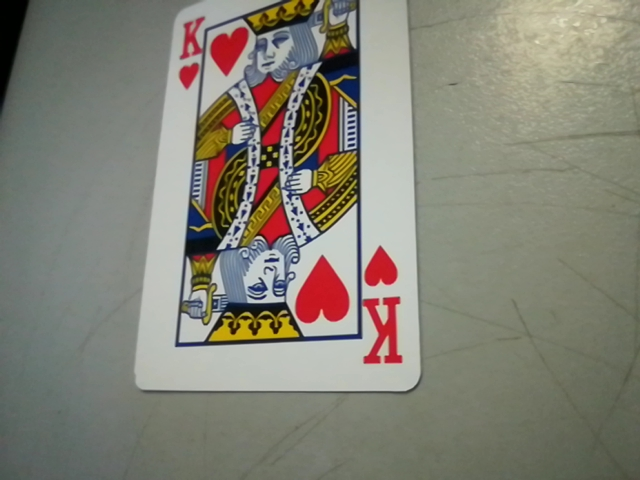hx k: (354, 236, 415, 377)
